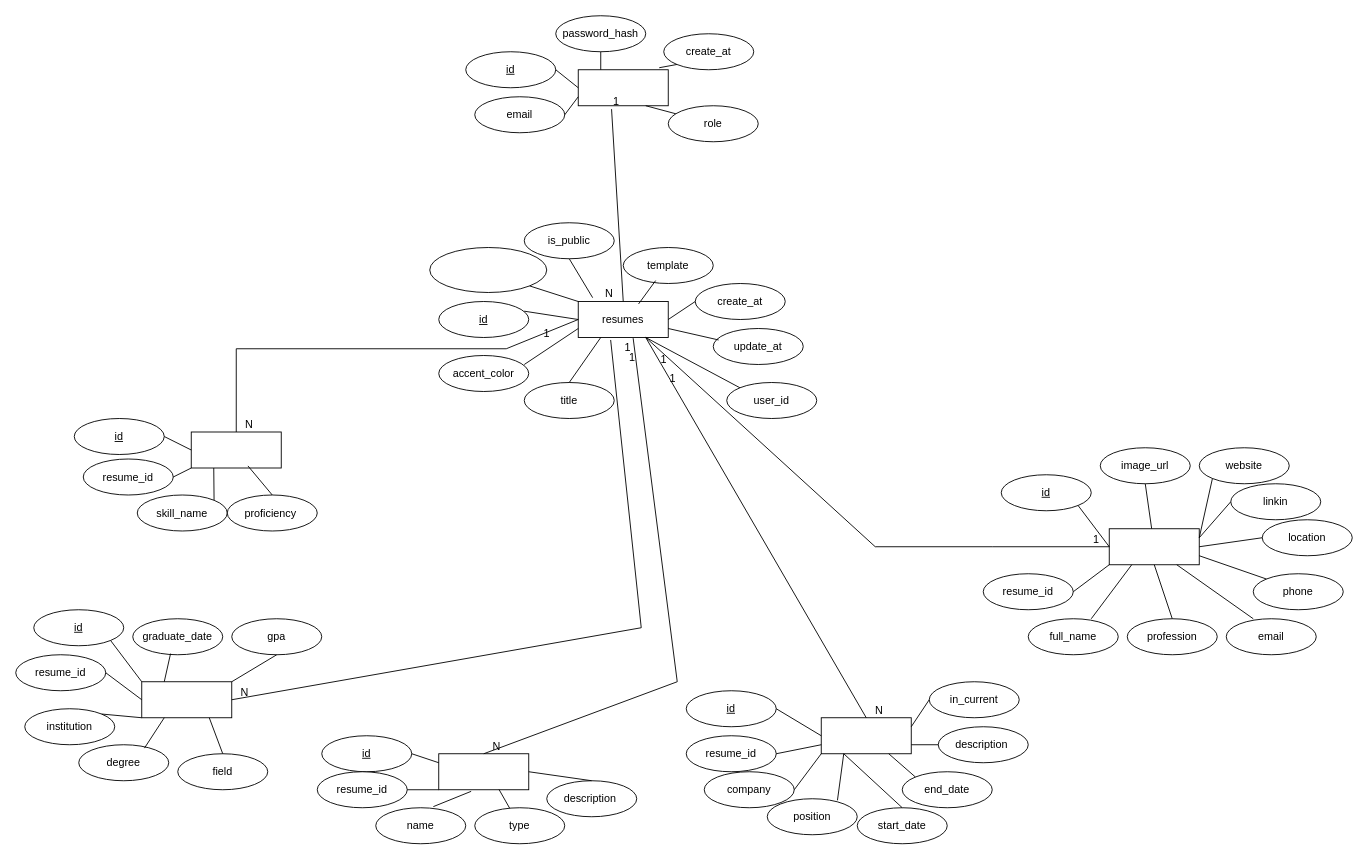
Some shapes in this 1368 by 860 pixel diagram are drawn without their labels. Here are the shapes that lost their labels. From the top down, the centre of each, then its label:
At (x=622, y=87): "Users".
At (x=488, y=269): "professional_summary".
At (x=235, y=449): "skills".
At (x=1153, y=546): "personal_info".
At (x=186, y=699): "education".
At (x=865, y=735): "experince".
At (x=483, y=771): "projects".
